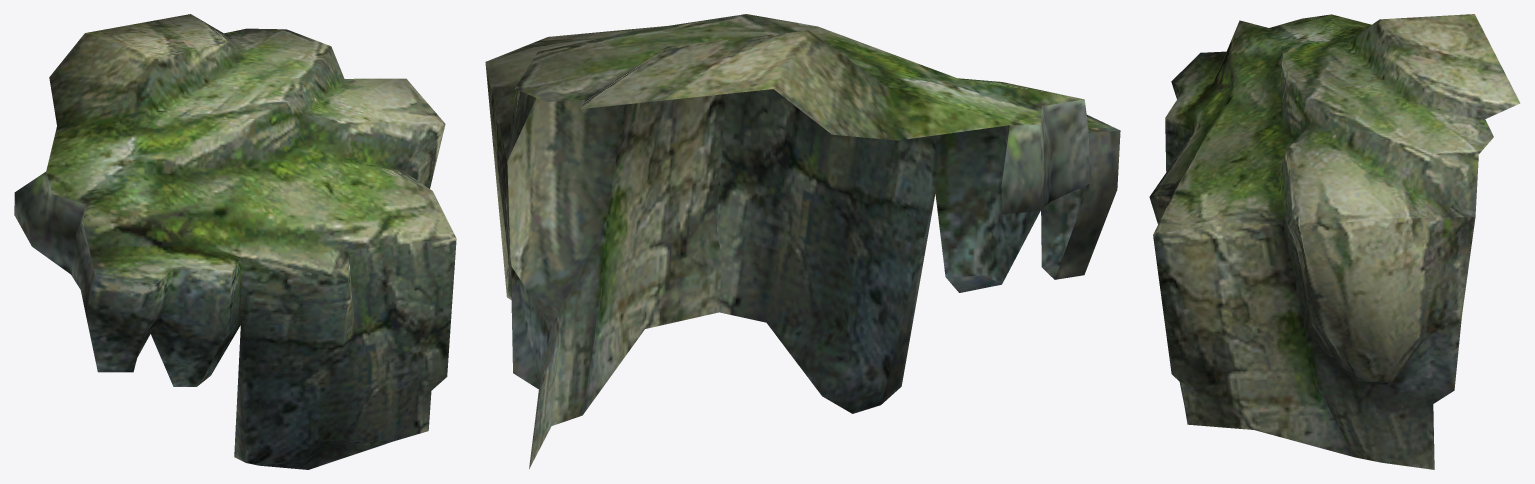
The model's file is S_Rock_Green047_1060_3.fbx.
3 renders of one model, left to right at view 1: azimuth 30°, elevation 25°; view 2: azimuth 150°, elevation 25°; view 3: azimuth 270°, elevation 25°, orthographic. The views are drawn at different scales.
Visible parts, largest first — view 1: S_Rock_Green047_1060_3; view 2: S_Rock_Green047_1060_3; view 3: S_Rock_Green047_1060_3.
Boxes of the visible parts, x1,y1,x2,y2 form: S_Rock_Green047_1060_3: [14, 14, 456, 469]; S_Rock_Green047_1060_3: [485, 14, 1120, 468]; S_Rock_Green047_1060_3: [1149, 14, 1520, 469].
Size of the model in its own units: 971 by 848 by 792.
1 material, 1 textured.
